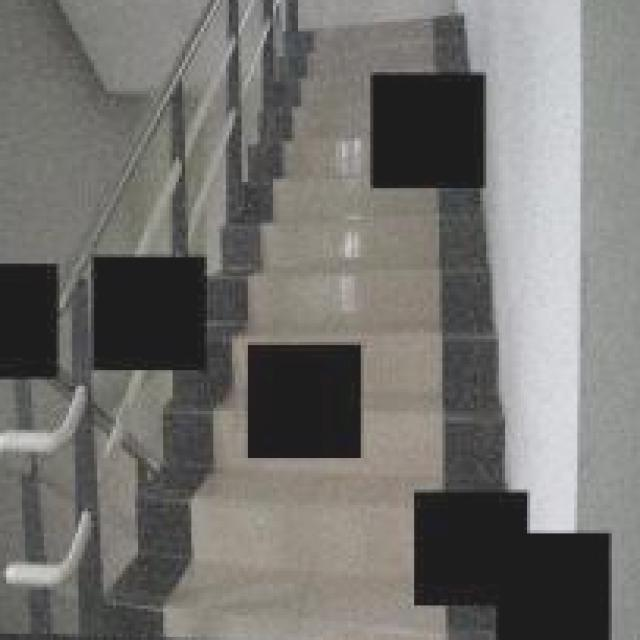upstair: (258, 30, 368, 328)
